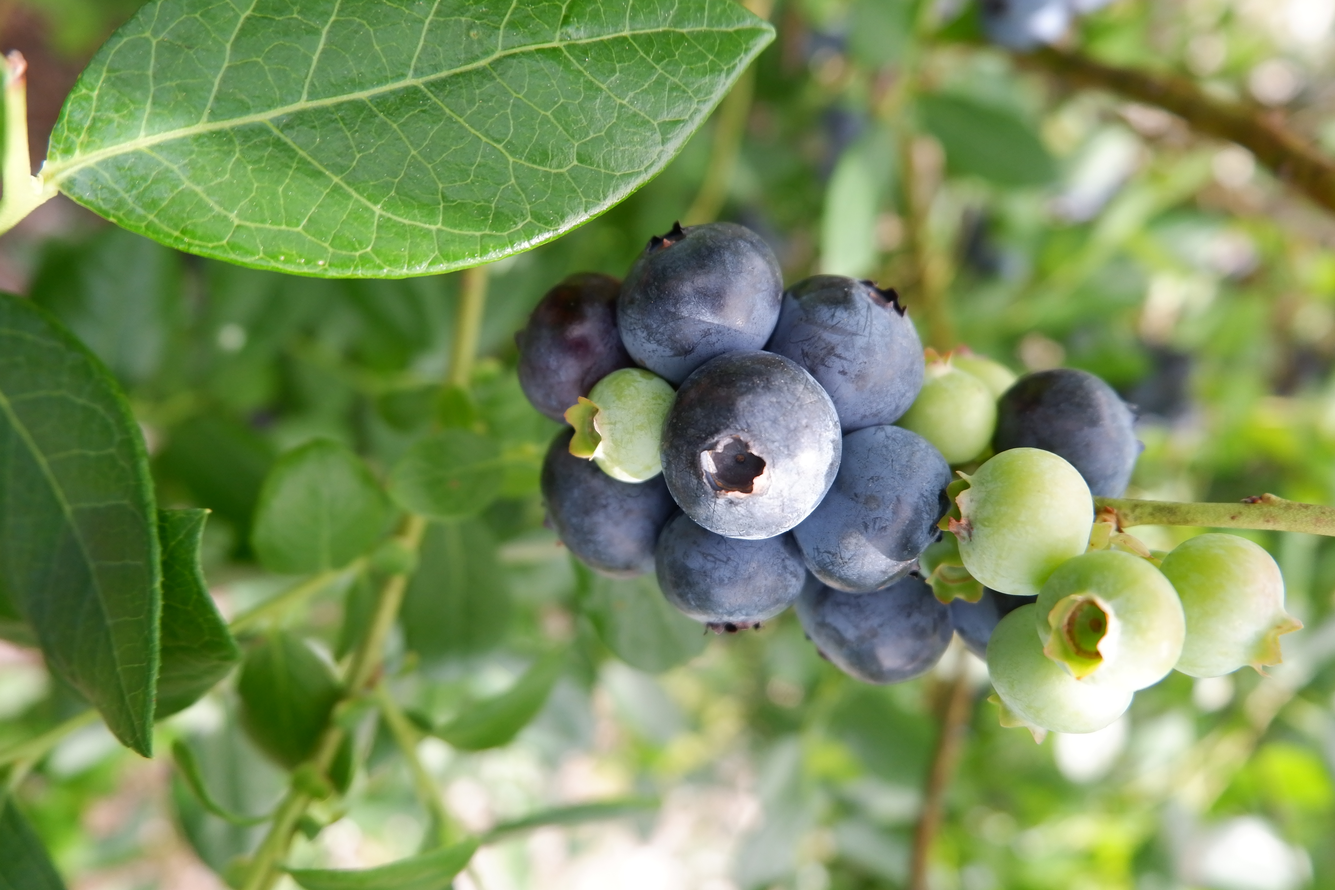Immature: (985, 603, 1135, 745), (944, 450, 1091, 591), (1040, 550, 1184, 689), (1164, 534, 1290, 677), (905, 347, 1017, 463), (570, 372, 672, 477), (922, 537, 986, 601)
Mature: (662, 353, 840, 534), (620, 225, 780, 380), (796, 431, 949, 591), (769, 280, 921, 429), (994, 370, 1139, 496), (544, 435, 675, 572), (516, 274, 634, 418), (657, 513, 802, 627), (801, 572, 950, 682), (952, 590, 1033, 656)
